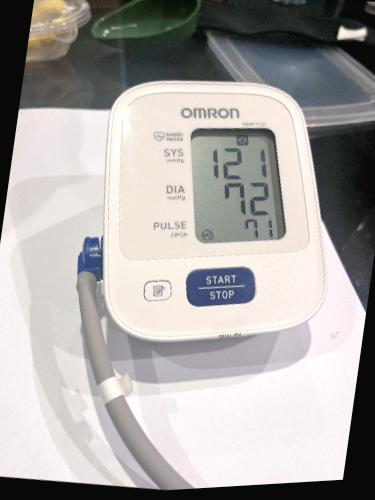bpm: (187, 123, 288, 245)
